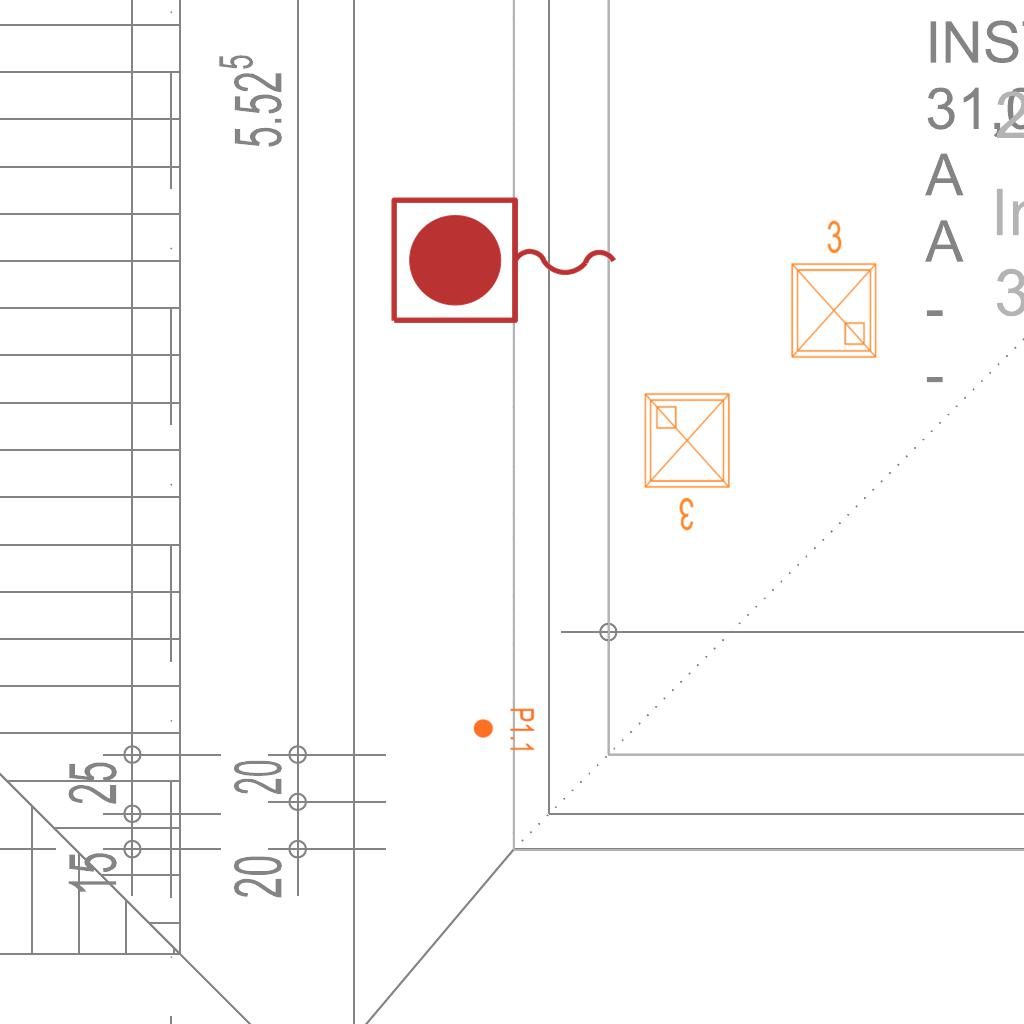Downlight_LED_Einbauleuchten_Flur: (472, 707, 536, 753)
Einbaudownlights_LED_Konferenzraeume: (780, 215, 884, 365), (637, 386, 741, 536)
Zugtaster: (383, 190, 627, 334)
